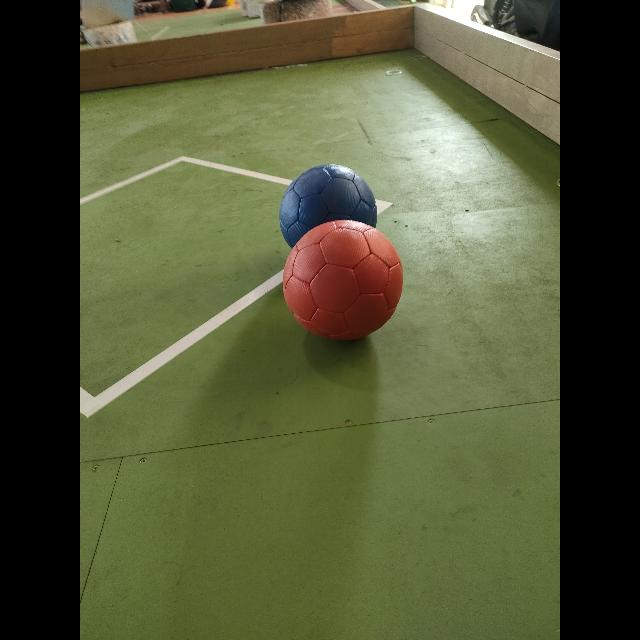B: (279, 165, 376, 248)
R: (283, 219, 403, 339)
